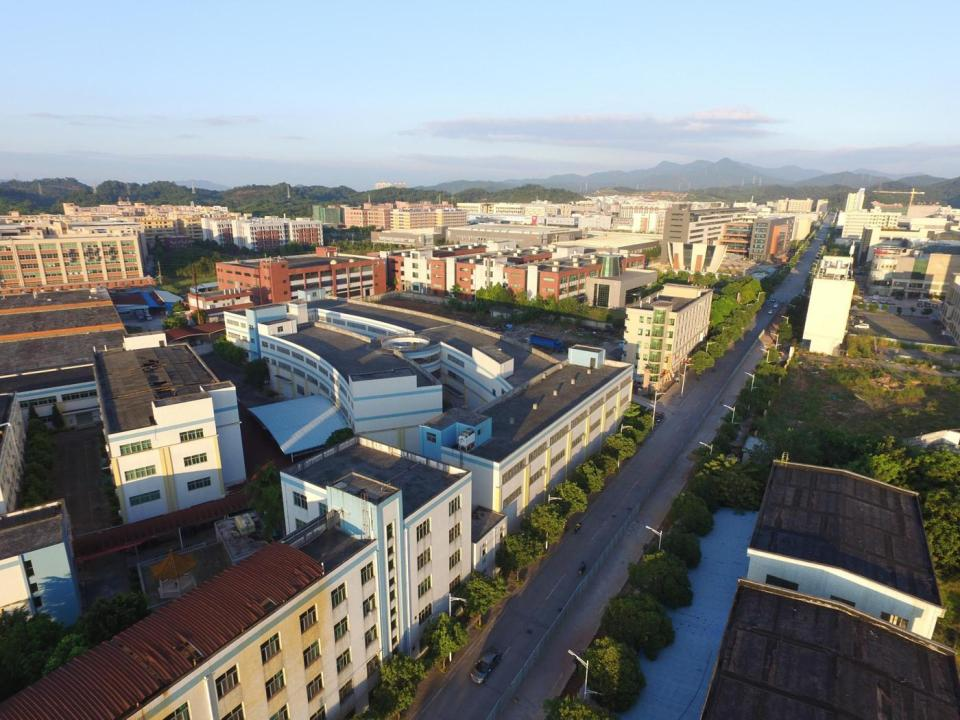car: (470, 647, 502, 685), (652, 411, 665, 422), (854, 322, 869, 330), (853, 312, 865, 318), (917, 298, 930, 302), (766, 309, 774, 314), (924, 302, 932, 307), (895, 296, 903, 300), (772, 303, 778, 308), (770, 297, 776, 302), (917, 302, 923, 307), (932, 303, 938, 308), (886, 299, 892, 304), (880, 298, 884, 304)
truck: (530, 334, 564, 352), (132, 309, 146, 323), (872, 294, 879, 304)
van: (145, 313, 152, 321)
